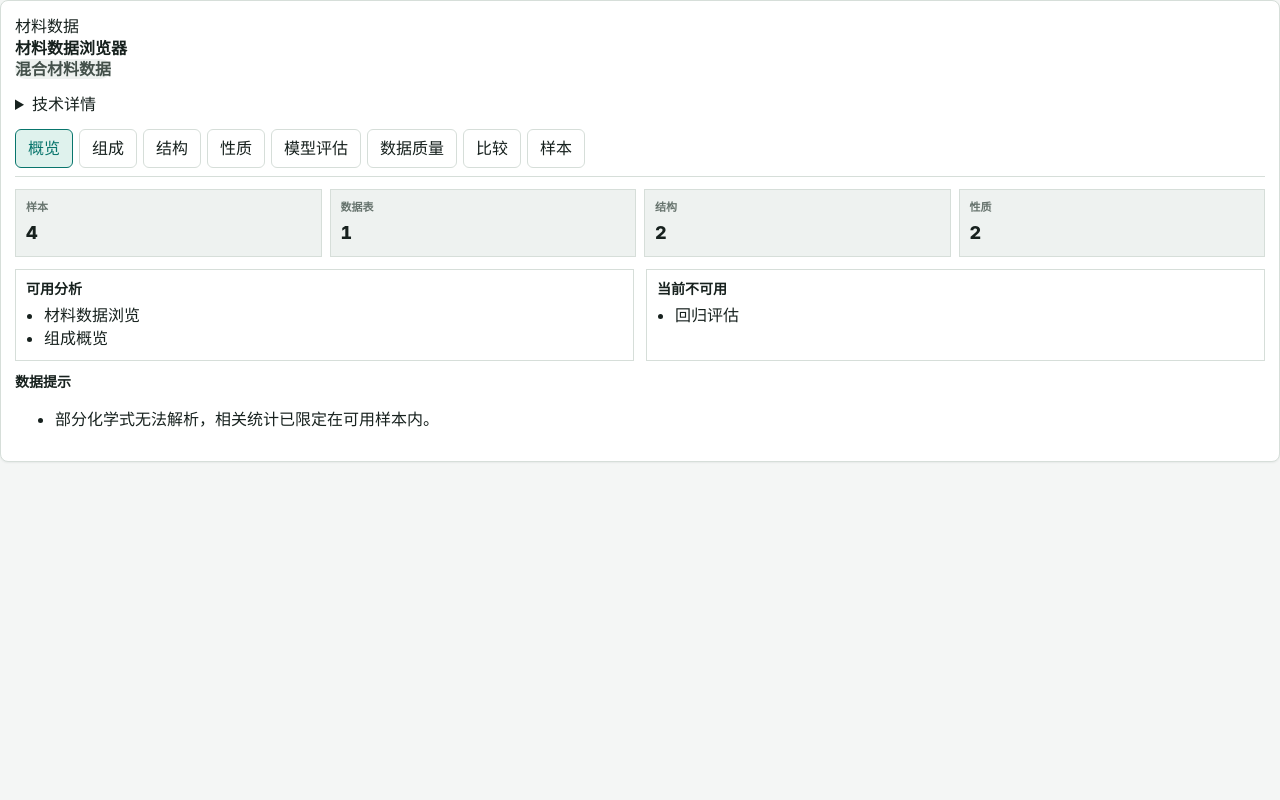
Test: DatasetMaterialsExplorerPanel › renders malicious labels as inert text
This screenshot has width=1280, height=800.
Click the tab "组成". click: click(108, 148)
box: x1=79 y1=129 x2=137 y2=168
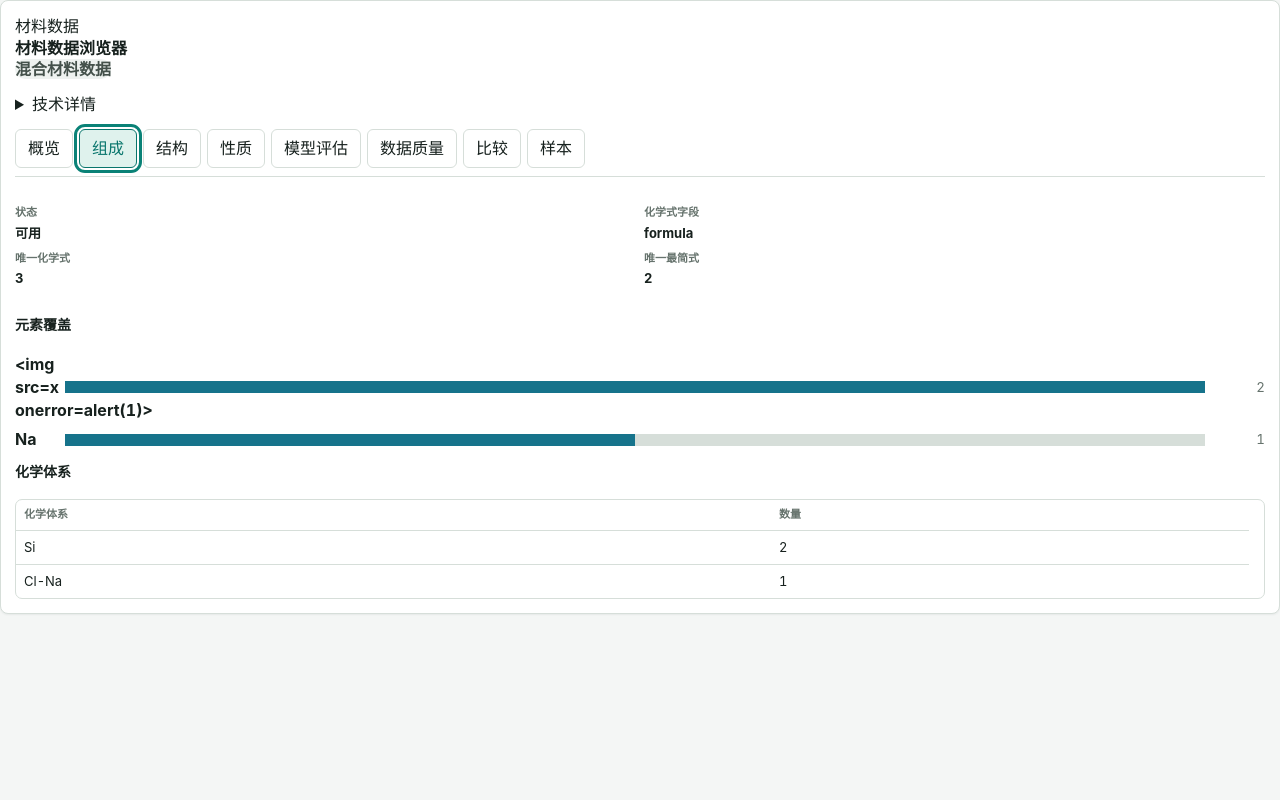
Check: the element with test id "dataset-element-bars" shows "<img src=x onerror=alert(1)>", box x1=15 y1=354 x2=153 y2=420
